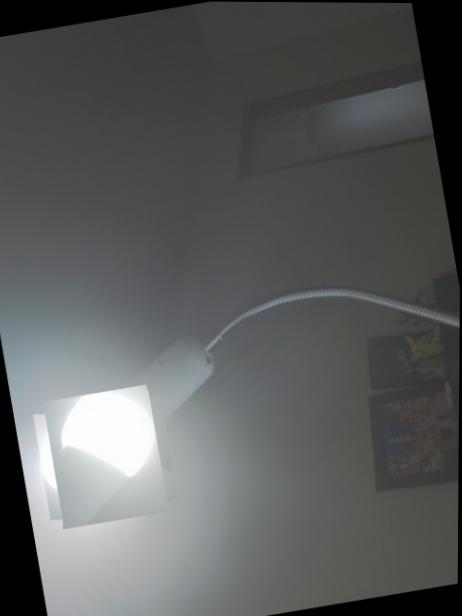TubeLight: (35, 387, 173, 525)
